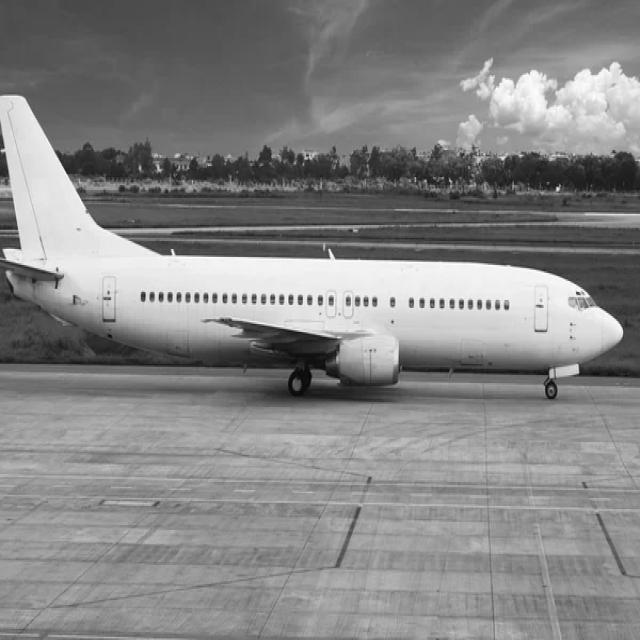Aircraft: (0, 86, 632, 400)
